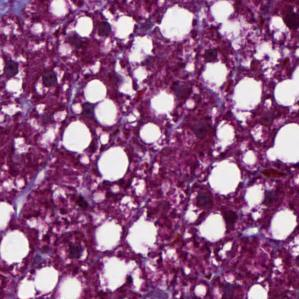steatosis: (160, 4, 196, 38), (210, 158, 241, 196), (1, 226, 32, 263), (100, 147, 130, 184), (64, 122, 91, 154), (138, 118, 166, 145), (203, 59, 230, 85), (84, 80, 107, 104), (75, 15, 97, 36)
